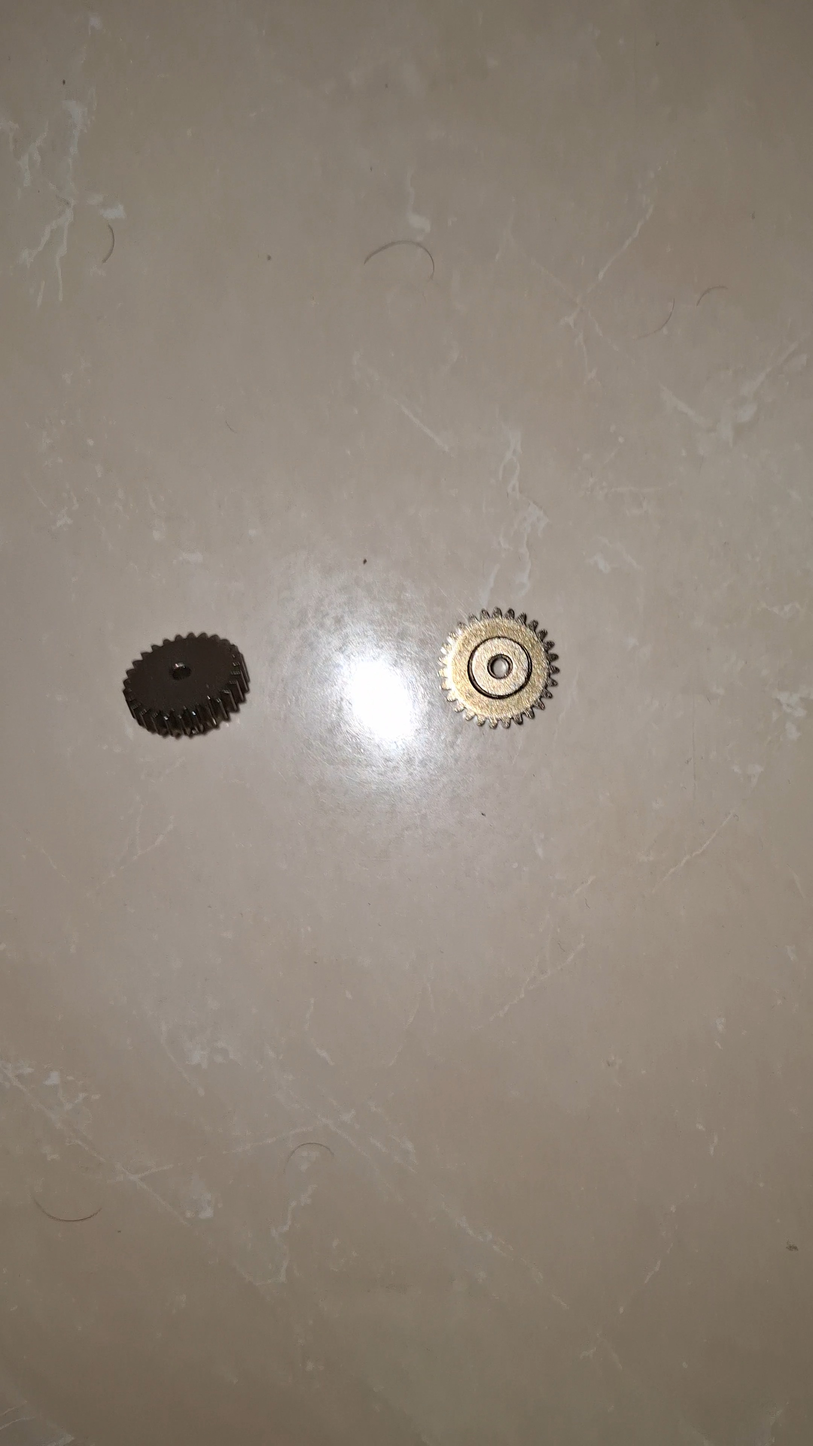spur gear: (440, 609, 559, 727), (123, 633, 249, 736)
